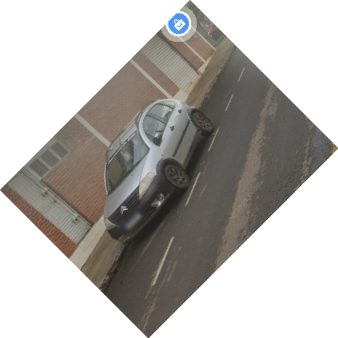car: (101, 97, 216, 246)
